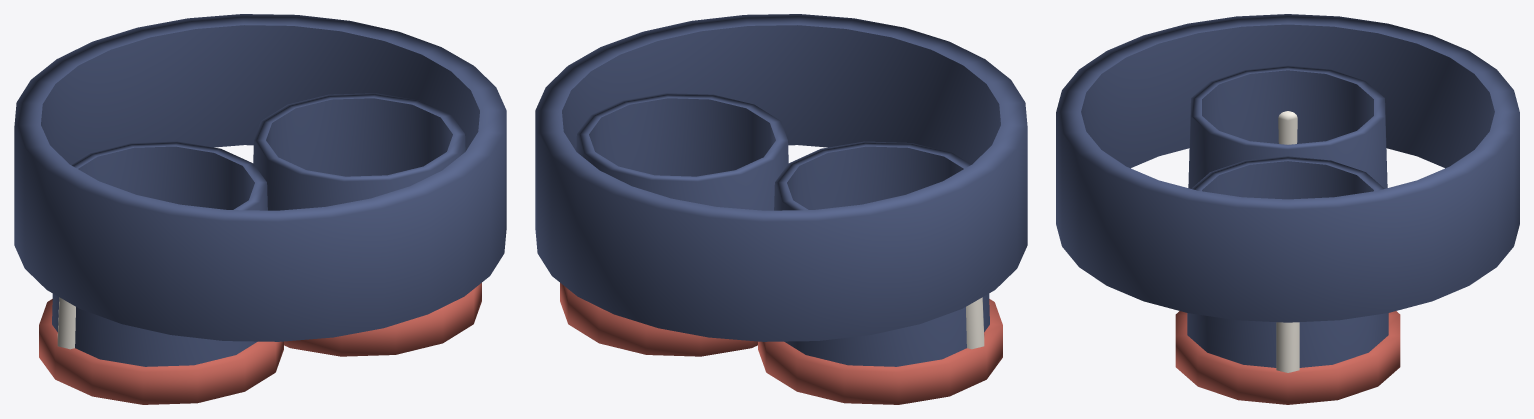
File: basketball_shorts.glb
3 views of the same model, side by side, from view 1: azimuth 30°, elevation 25°; view 2: azimuth 150°, elevation 25°; view 3: azimuth 270°, elevation 25° (orthographic). The views are drawn at different scales.
Parts seen in each view (by area): view 1: basketball_shorts_Body, basketball_shorts_LegL, basketball_shorts_LegR; view 2: basketball_shorts_Body, basketball_shorts_LegL, basketball_shorts_LegR; view 3: basketball_shorts_Body, basketball_shorts_LegR, basketball_shorts_LegL.
Boxes of the visible parts, bbox=[...] form: basketball_shorts_Body: bbox=[14, 14, 506, 341]; basketball_shorts_LegL: bbox=[39, 141, 283, 404]; basketball_shorts_LegR: bbox=[253, 93, 481, 356]; basketball_shorts_Body: bbox=[535, 14, 1027, 341]; basketball_shorts_LegL: bbox=[758, 141, 1002, 404]; basketball_shorts_LegR: bbox=[560, 93, 788, 356]; basketball_shorts_Body: bbox=[1056, 14, 1519, 322]; basketball_shorts_LegR: bbox=[1175, 156, 1400, 404]; basketball_shorts_LegL: bbox=[1188, 65, 1387, 188].
Bounding box in the file's own units: 0.41 × 0.194 × 0.41.
